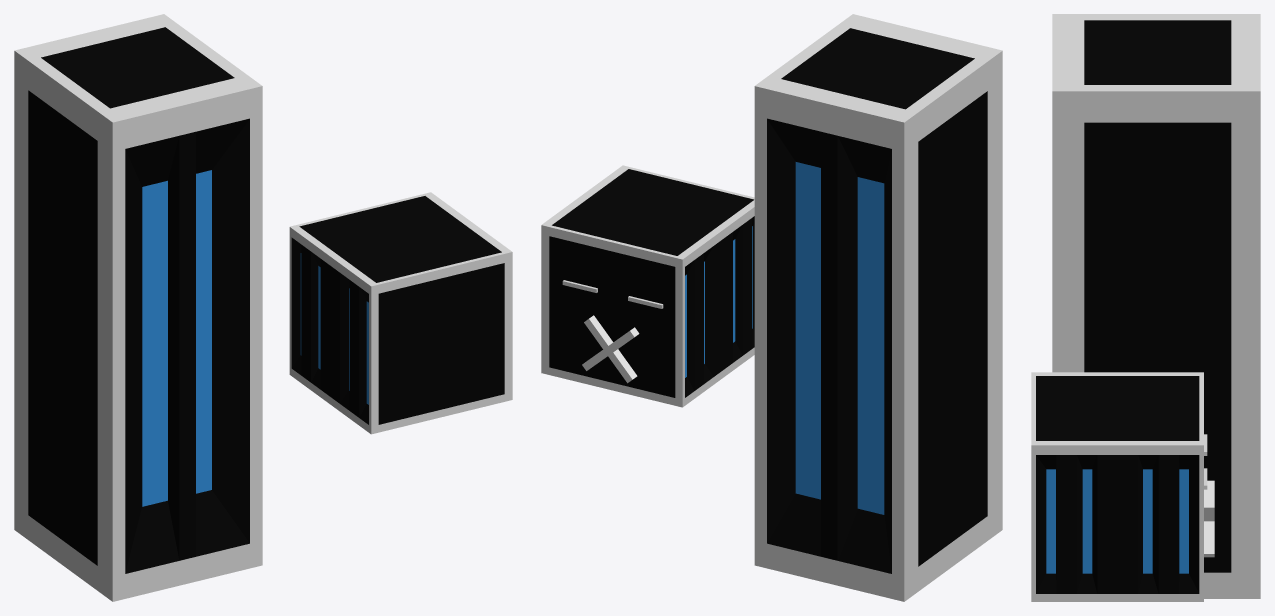
The model's file is pixelated Enemies.fbx.
3 views of the same model, side by side, from view 1: azimuth 30°, elevation 25°; view 2: azimuth 150°, elevation 25°; view 3: azimuth 270°, elevation 25° (orthographic). The views are drawn at different scales.
Parts seen in each view (by area): view 1: Cube.013, Cube.009; view 2: Cube.013, Cube.009, Cube.010; view 3: Cube.013, Cube.009, Cube.010.
Boxes of the visible parts, box(x1,y1,x2,y2) form: Cube.013: box(14, 14, 262, 601); Cube.009: box(289, 192, 512, 434); Cube.013: box(754, 14, 1002, 601); Cube.009: box(541, 165, 754, 407); Cube.010: box(582, 315, 639, 383); Cube.013: box(1052, 14, 1260, 598); Cube.009: box(1031, 372, 1203, 601); Cube.010: box(1204, 480, 1214, 557).
Bounding box in the file's own units: 170 × 200 × 81.97.
